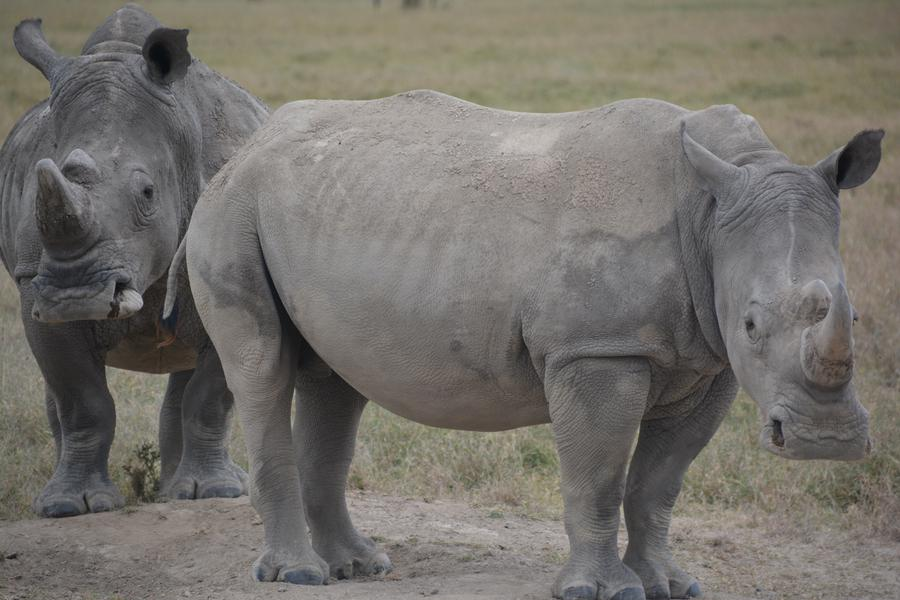rhino: (242, 84, 852, 567), (13, 10, 228, 441)
